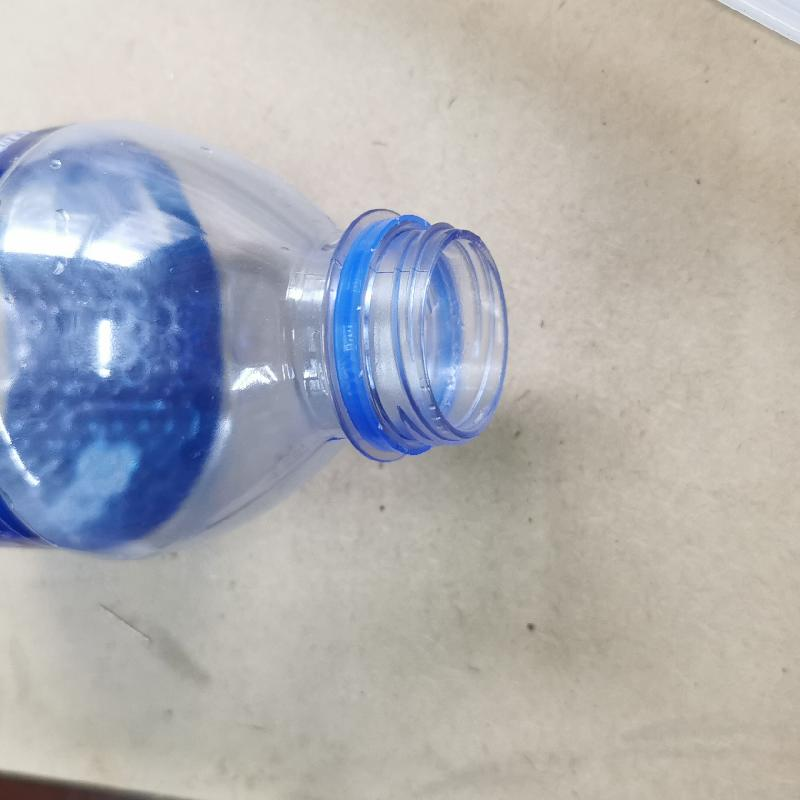bottles: (3, 116, 514, 563)
